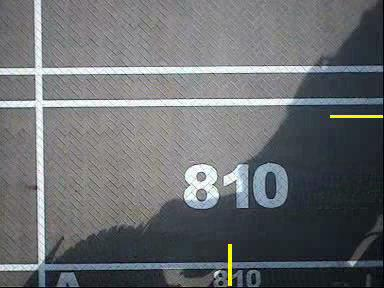groundmarker_2: (101, 241, 169, 270), (102, 53, 170, 81)
